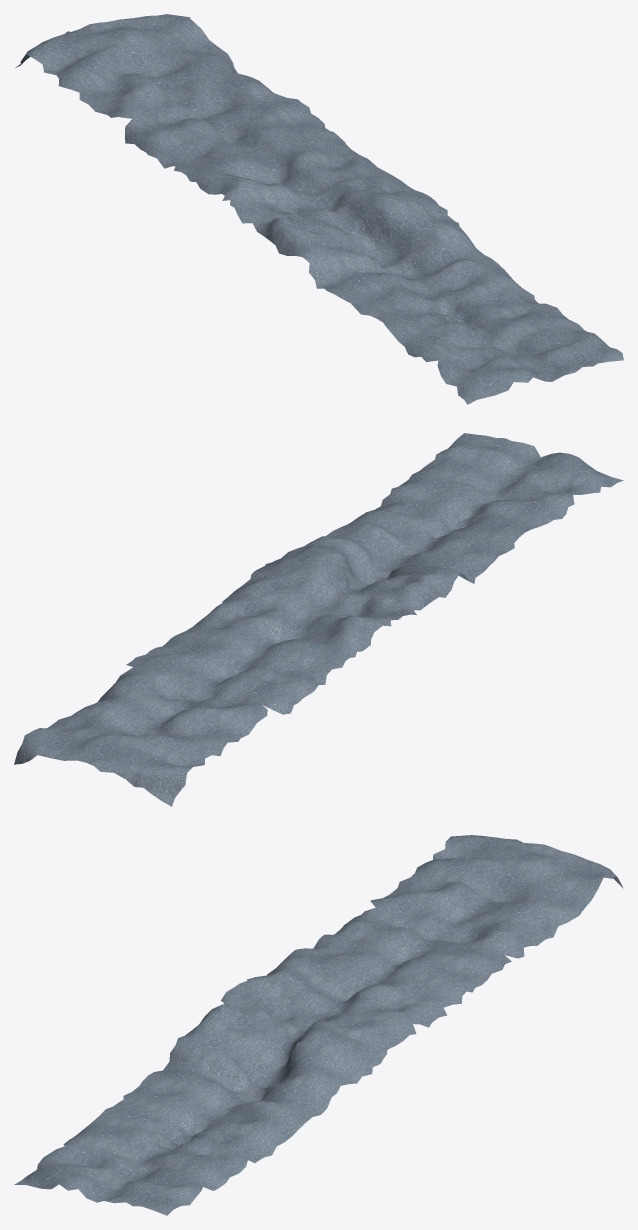
Rendered from Gaia.fbx.
The picture shows the model from 3 angles, top to bottom: view 1: azimuth 30°, elevation 25°; view 2: azimuth 150°, elevation 25°; view 3: azimuth 330°, elevation 25°; orthographic projection.
Visible parts, largest first — view 1: gaia; view 2: gaia; view 3: gaia.
Part boxes in pixels (<box>): gaia: <box>15,14,623,404</box>; gaia: <box>14,433,623,806</box>; gaia: <box>14,835,623,1215</box>.
Size of the model in its own units: 2358 by 651 by 10524.
1 material, 1 textured.
